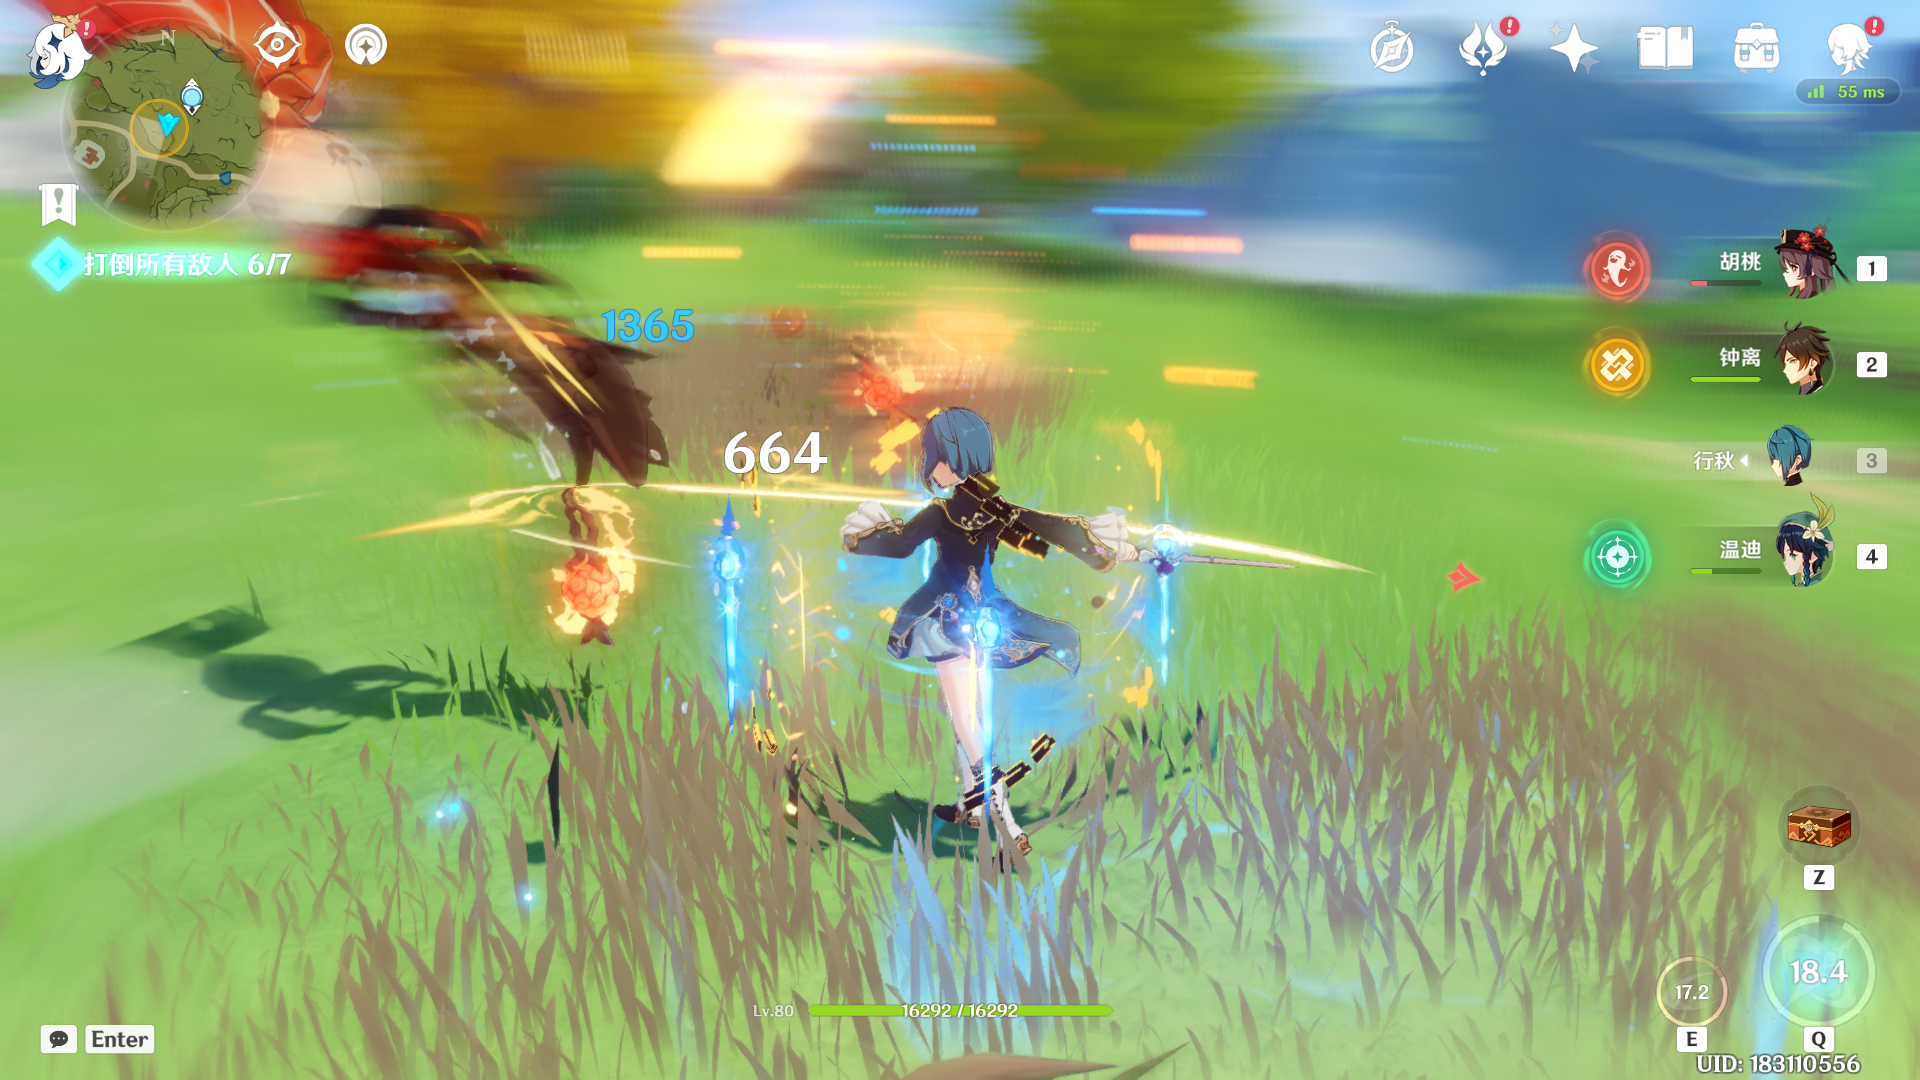character: (775, 373, 1150, 872)
